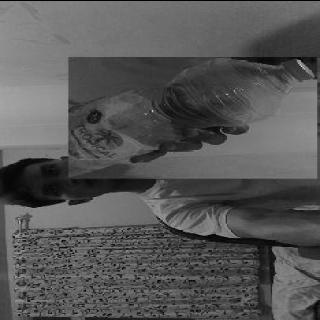plastic_bottles: (70, 56, 317, 177)
